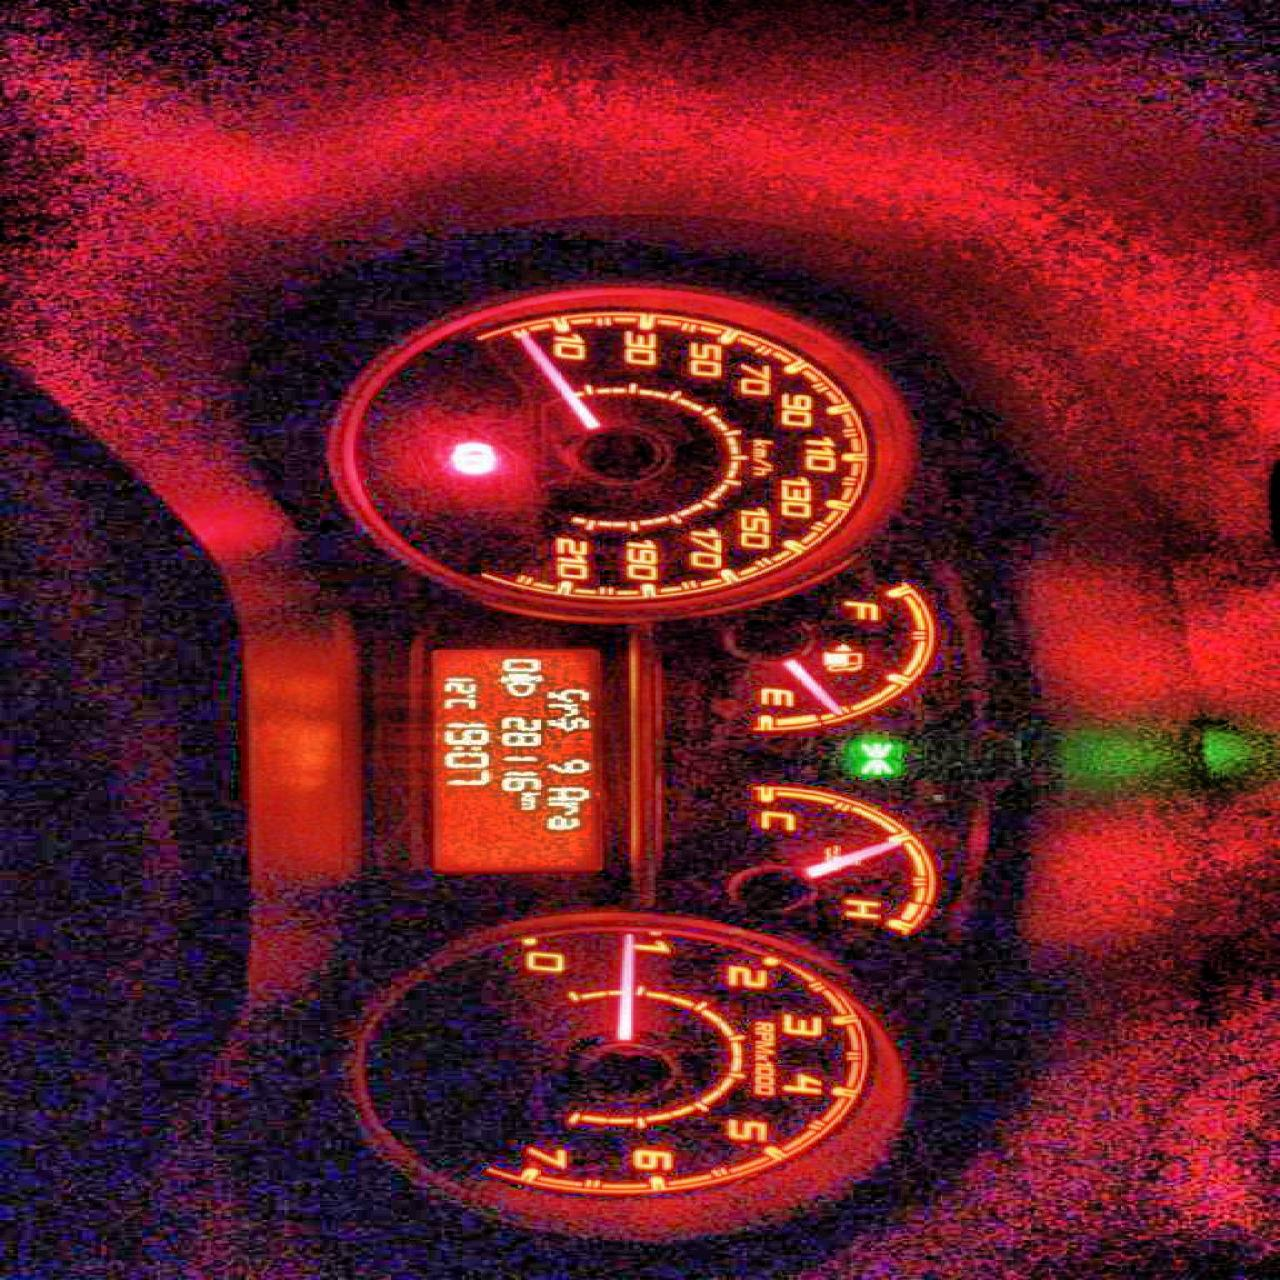0: (438, 751, 489, 768), (498, 656, 538, 673)
1: (496, 753, 538, 763), (441, 719, 486, 728), (498, 768, 538, 776), (437, 675, 476, 681)
2: (498, 715, 538, 731), (441, 681, 476, 694)
6: (498, 776, 540, 790)
7: (442, 768, 491, 787)
8: (496, 731, 540, 747)
9: (543, 756, 588, 774), (438, 728, 489, 743)
X: (542, 716, 591, 731), (540, 687, 588, 702), (543, 785, 588, 799), (542, 815, 580, 830), (543, 801, 578, 815), (544, 702, 578, 716), (437, 697, 476, 708), (516, 797, 536, 809), (516, 790, 540, 798), (447, 745, 482, 750)
odometer: (417, 642, 611, 878)
